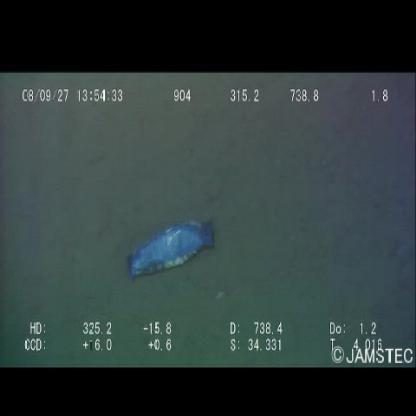Rác: (120, 208, 221, 290)
